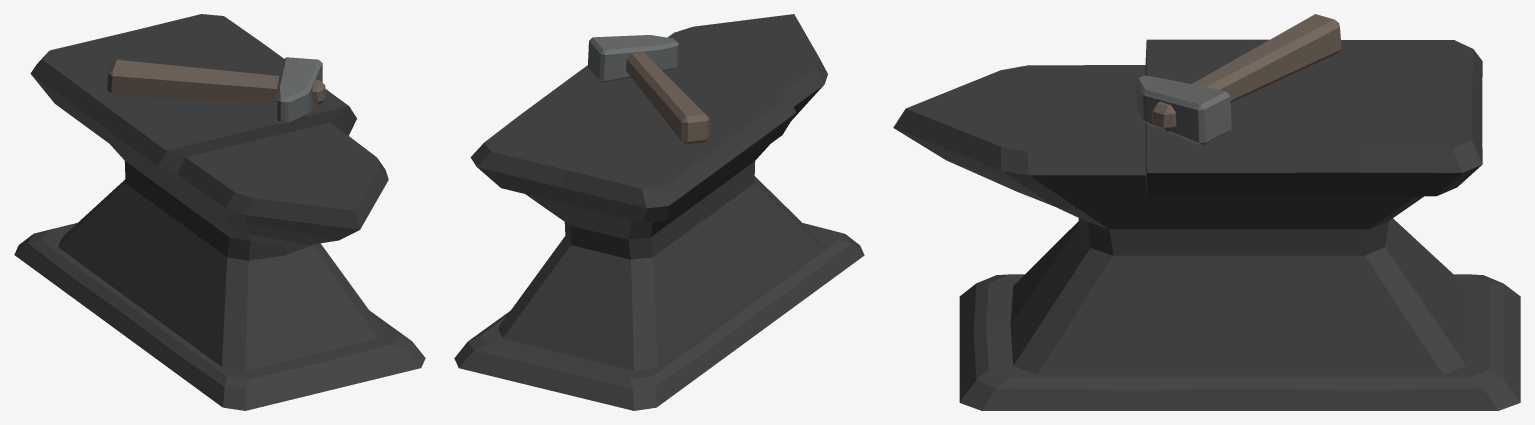
The model's file is anvil.fbx.
3 views of the same model, side by side, from view 1: azimuth 30°, elevation 25°; view 2: azimuth 150°, elevation 25°; view 3: azimuth 270°, elevation 25° (orthographic). The views are drawn at different scales.
Parts seen in each view (by area): view 1: anvil, handle, head; view 2: anvil, handle, head; view 3: anvil, handle, head.
Part boxes in pixels (x1,y1,x2,y2): anvil: (14, 14, 425, 410); handle: (107, 59, 325, 104); head: (276, 57, 322, 124); anvil: (454, 14, 864, 410); handle: (626, 52, 709, 144); head: (587, 35, 678, 82); anvil: (893, 39, 1520, 410); handle: (1152, 14, 1341, 131); head: (1135, 75, 1231, 145).
Size of the model in its own units: 54.5 by 61.21 by 118.
